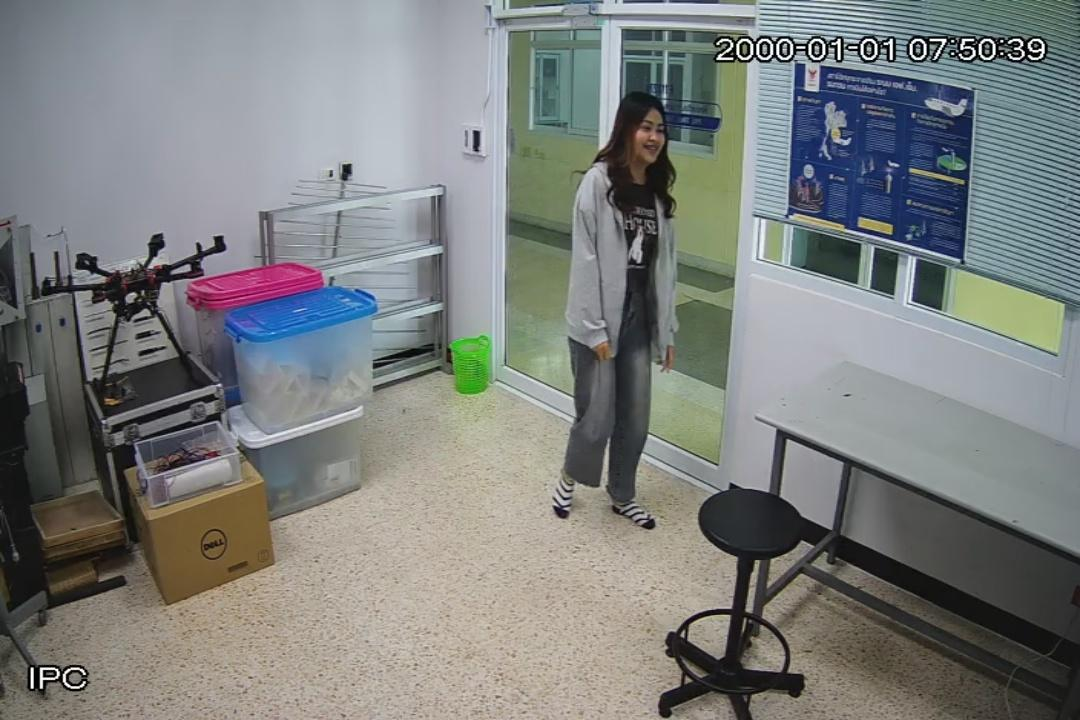normal: (551, 84, 680, 542)
